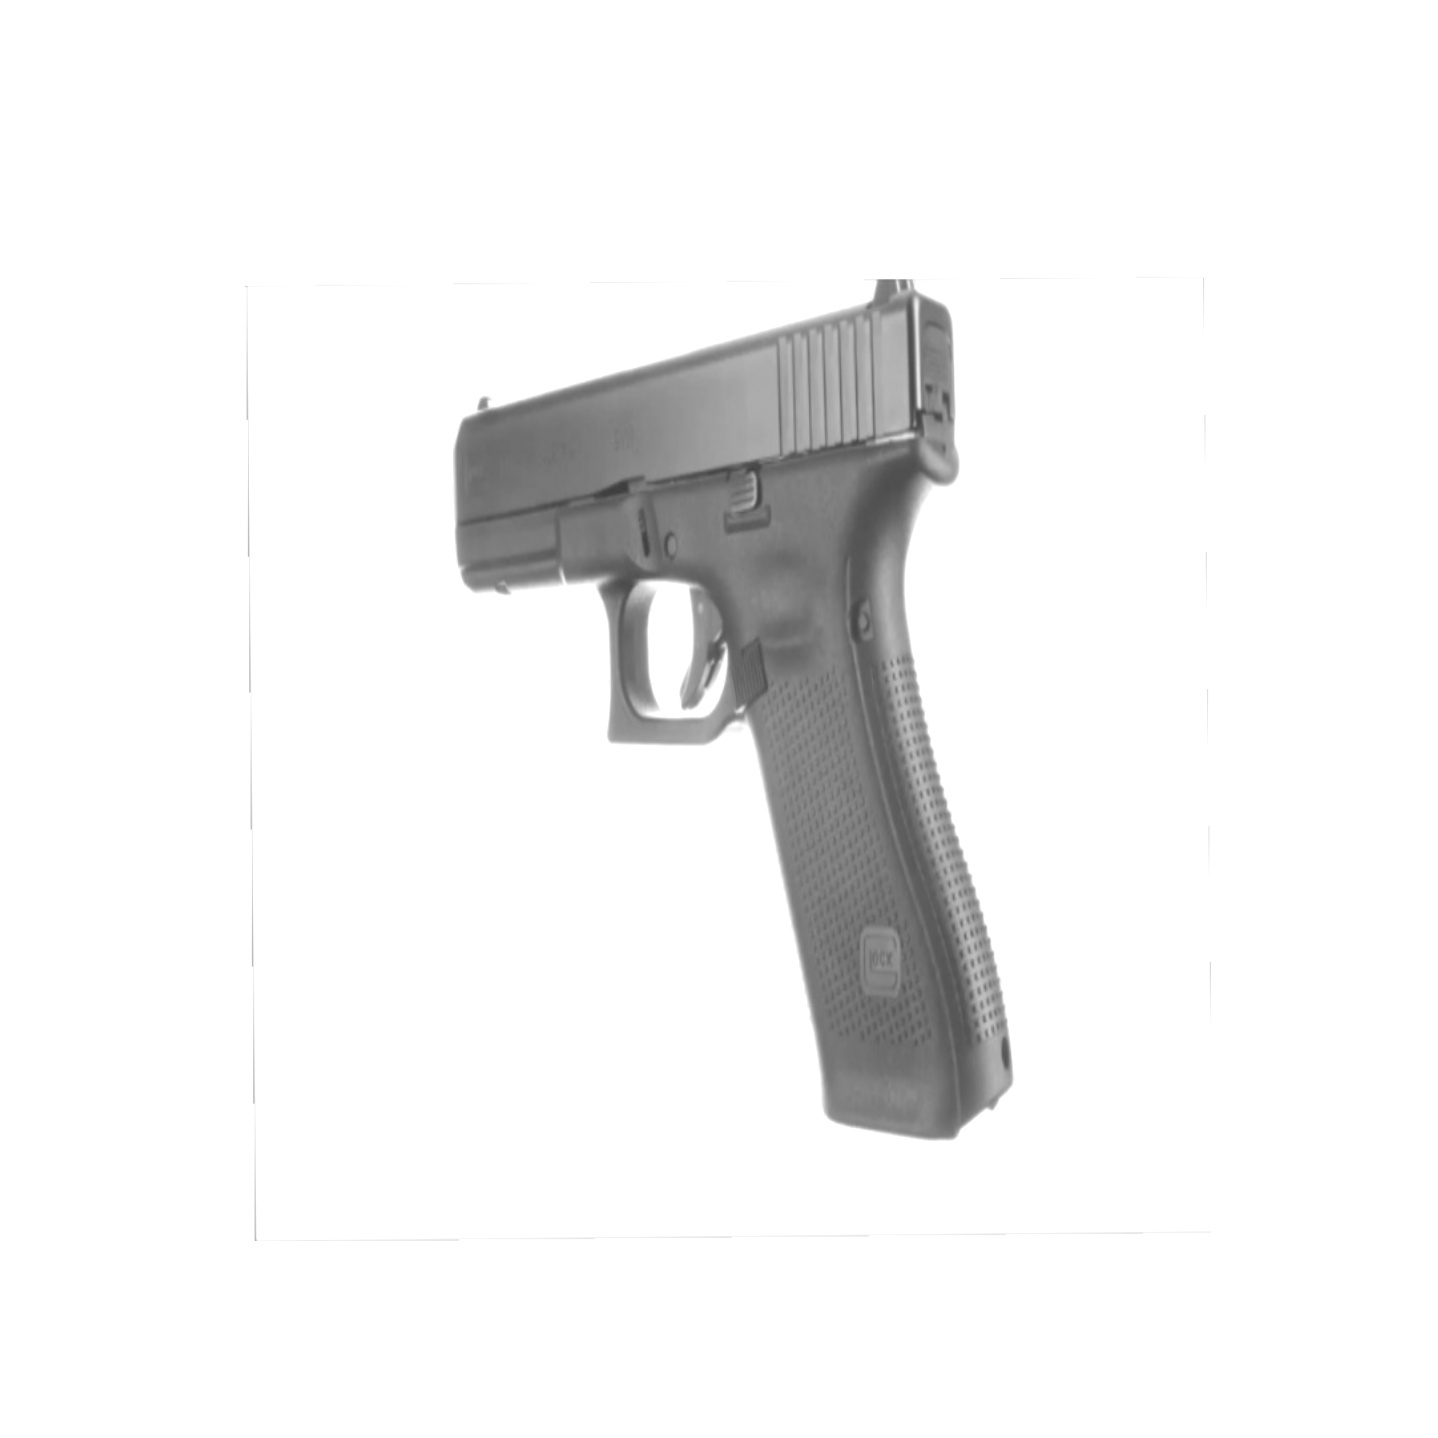gun: (456, 280, 1017, 1142)
